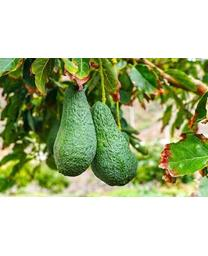avocado: (54, 79, 98, 178), (89, 101, 138, 187)
